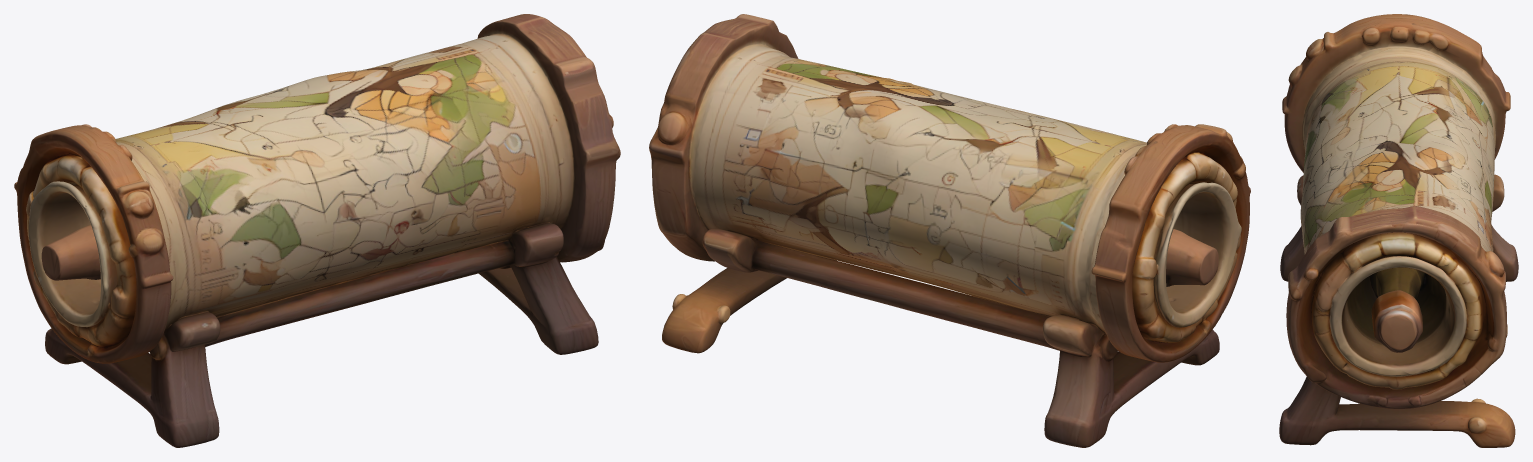
Rendered from prop-treasure-map.glb.
3 renders of one model, left to right at view 1: azimuth 30°, elevation 25°; view 2: azimuth 150°, elevation 25°; view 3: azimuth 270°, elevation 25°, orthographic. The views are drawn at different scales.
Parts seen in each view (by area): view 1: tripo_node_b42f234f-3565-4453-8f68-8fc25687dcd8; view 2: tripo_node_b42f234f-3565-4453-8f68-8fc25687dcd8; view 3: tripo_node_b42f234f-3565-4453-8f68-8fc25687dcd8.
Part boxes in pixels (<box>): tripo_node_b42f234f-3565-4453-8f68-8fc25687dcd8: <box>14,14,620,447</box>; tripo_node_b42f234f-3565-4453-8f68-8fc25687dcd8: <box>649,14,1250,447</box>; tripo_node_b42f234f-3565-4453-8f68-8fc25687dcd8: <box>1279,14,1518,447</box>.
Bounding box in the file's own units: 2.52 × 1.2 × 1.1.
Materials: 1 (1 with a texture image).
